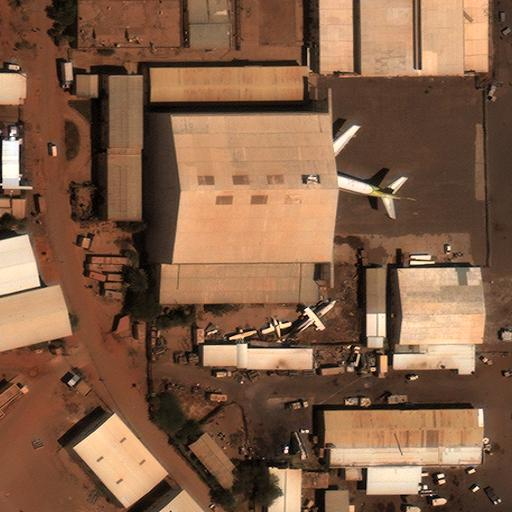Small Civil Transport: (261, 318, 291, 341), (228, 328, 256, 344)
